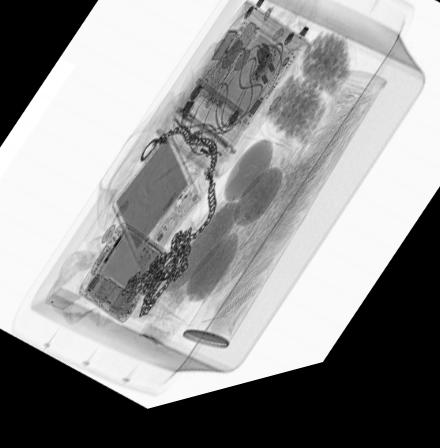Powerbank: (112, 133, 203, 279)
